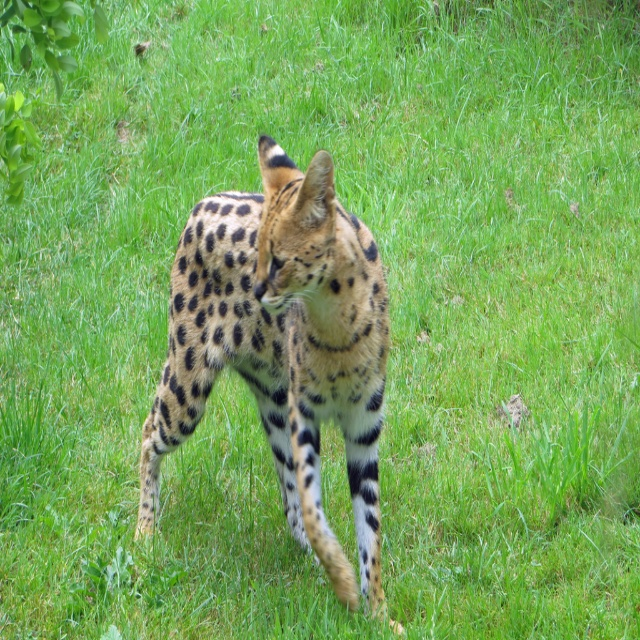Cheetah: (134, 134, 406, 637)
